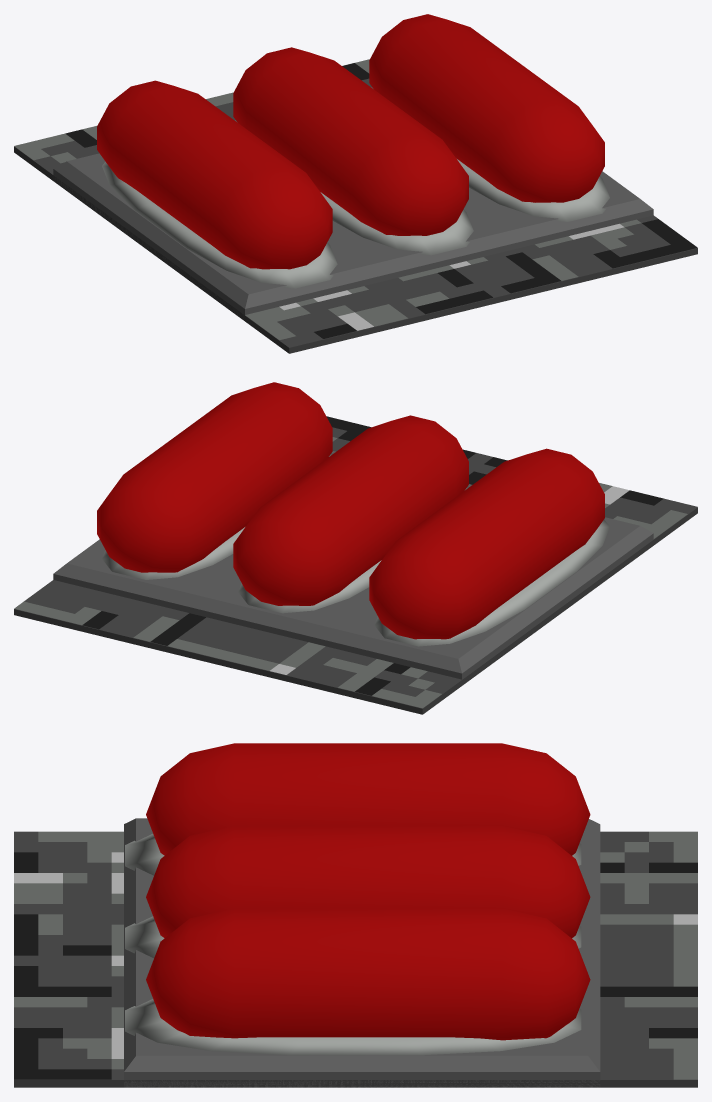
File: newshs-191.glb
The picture shows the model from 3 angles, top to bottom: view 1: azimuth 30°, elevation 25°; view 2: azimuth 150°, elevation 25°; view 3: azimuth 270°, elevation 25°; orthographic projection. The views are drawn at different scales.
Visible parts, largest first — view 1: newshs-191; view 2: newshs-191; view 3: newshs-191.
Part boxes in pixels (left/top/right/bottom): newshs-191: left=14, top=14, right=697, bottom=353; newshs-191: left=14, top=382, right=697, bottom=714; newshs-191: left=14, top=743, right=697, bottom=1087.
Size of the model in its own units: 2 by 0.4867 by 2.33.
